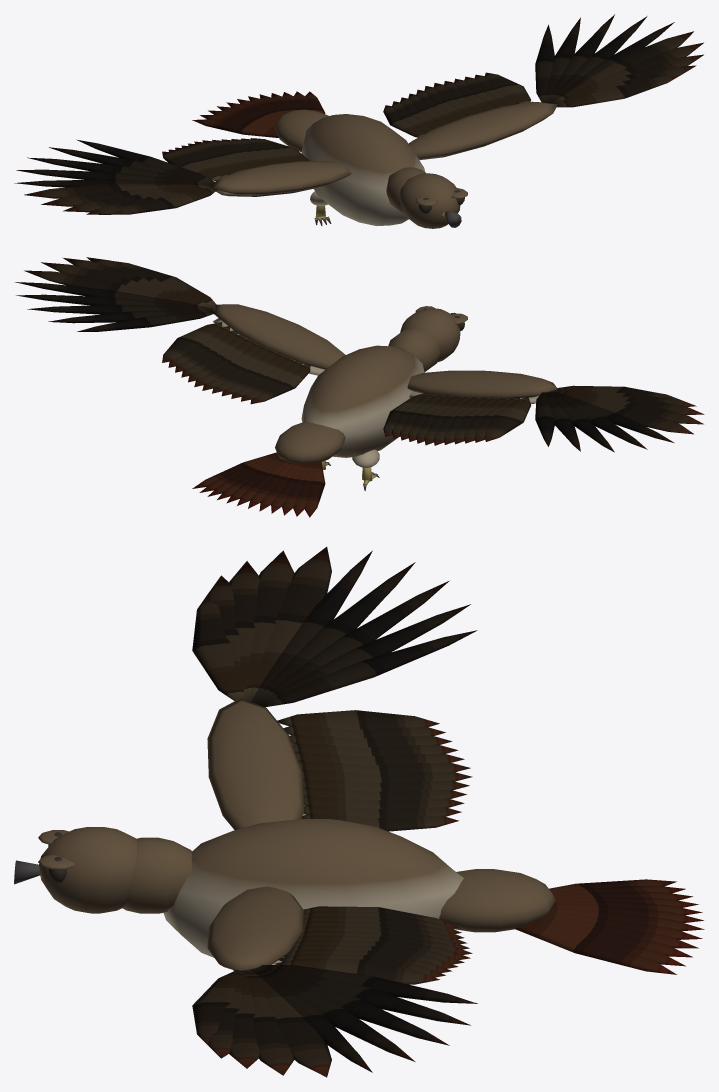
The model's file is hawk_dp_01.glb.
3 renders of one model, top to bottom at view 1: azimuth 30°, elevation 25°; view 2: azimuth 150°, elevation 25°; view 3: azimuth 270°, elevation 25°, orthographic. The views are drawn at different scales.
Visible parts, largest first — view 1: hawk; view 2: hawk; view 3: hawk.
Boxes of the visible parts, box(x1,y1,x2,y2) form: hawk: box(14, 14, 703, 228); hawk: box(15, 257, 704, 517); hawk: box(14, 546, 704, 1077).
Size of the model in its own units: 1.28 by 0.2174 by 0.7016.
Materials: 2 (1 with a texture image).
